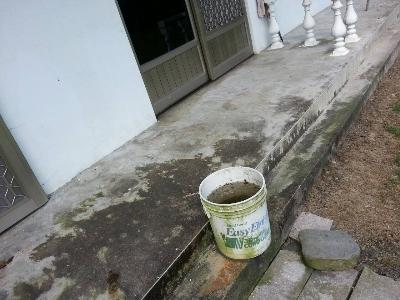bucket: (198, 165, 273, 261)
